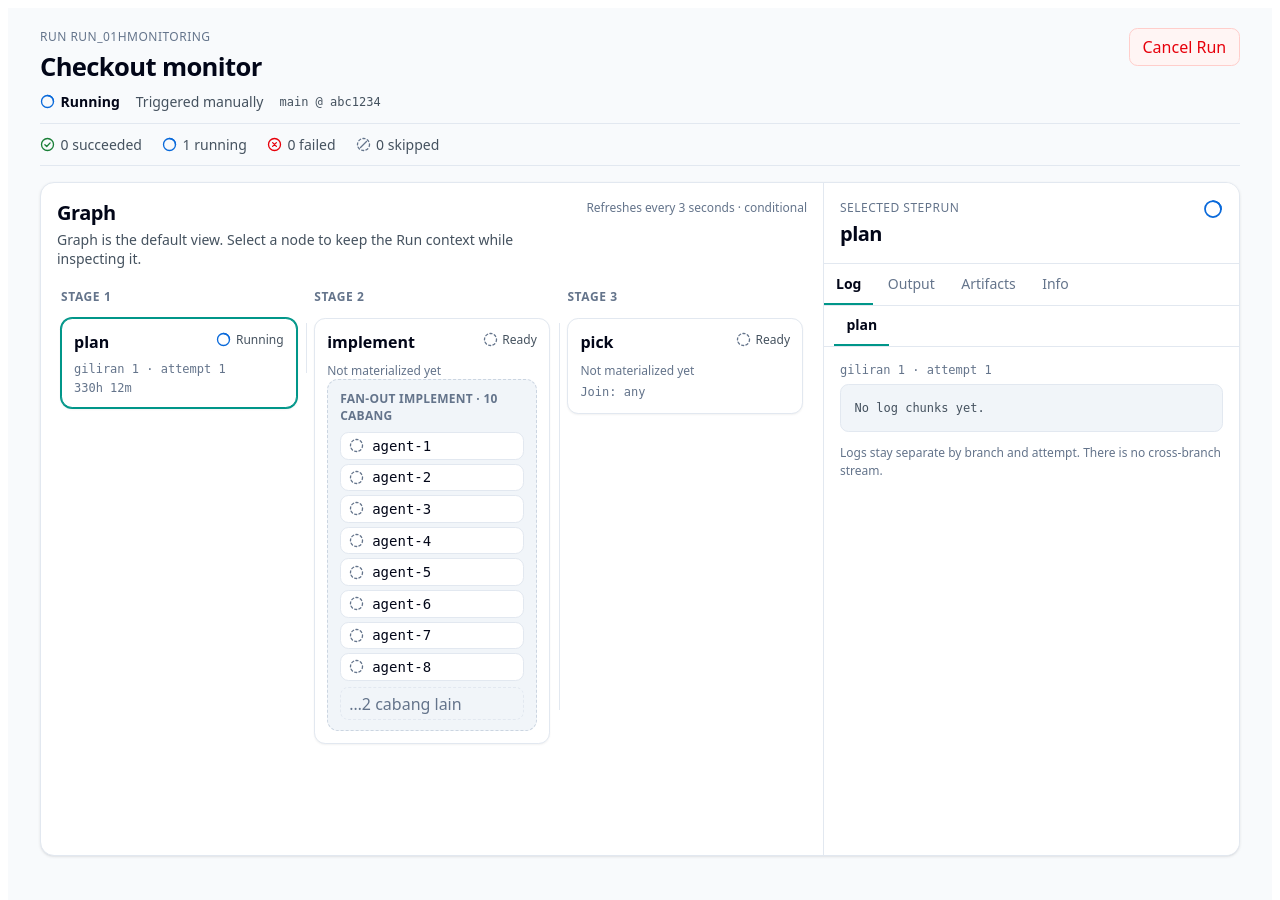
RunScreen › acknowledges cancel intent before the server request resolves
Click the button "Cancel Run": [1184, 47] box [1129,28,1240,66]
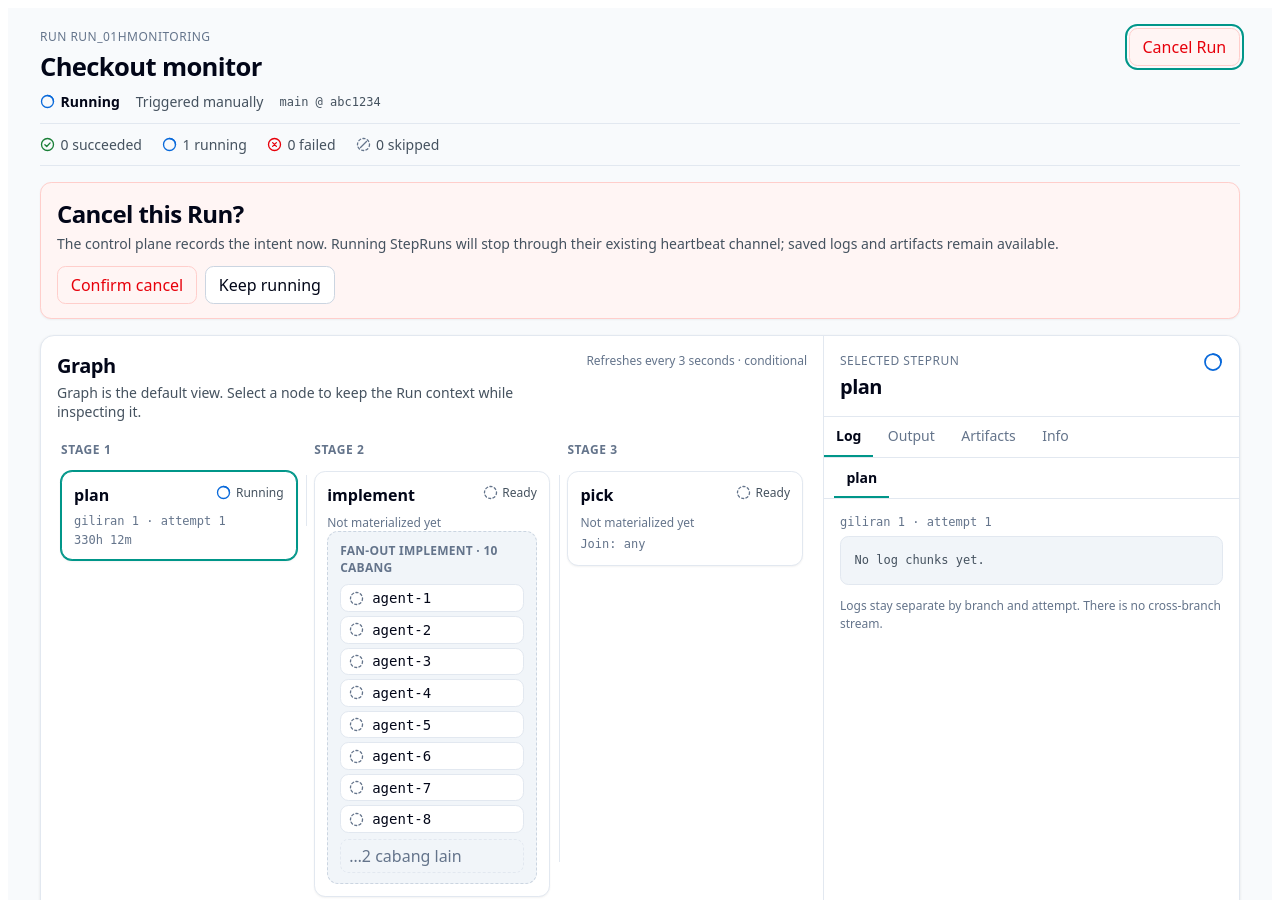
Click the button "Confirm cancel": [127, 285] box [57,266,197,304]
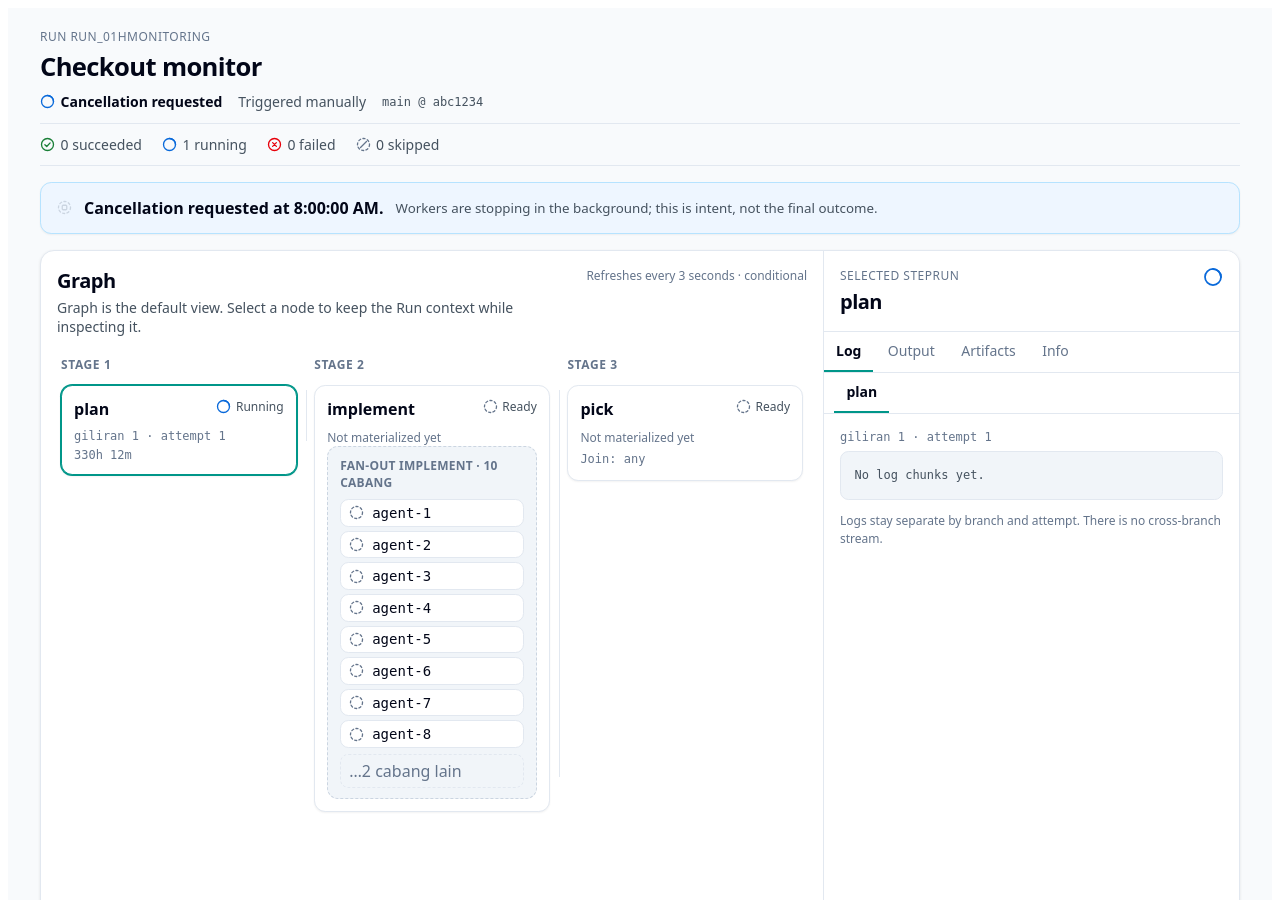
Now the message with test id "cancel-intent" shows "Cancellation requested", box [84,197,294,219]
